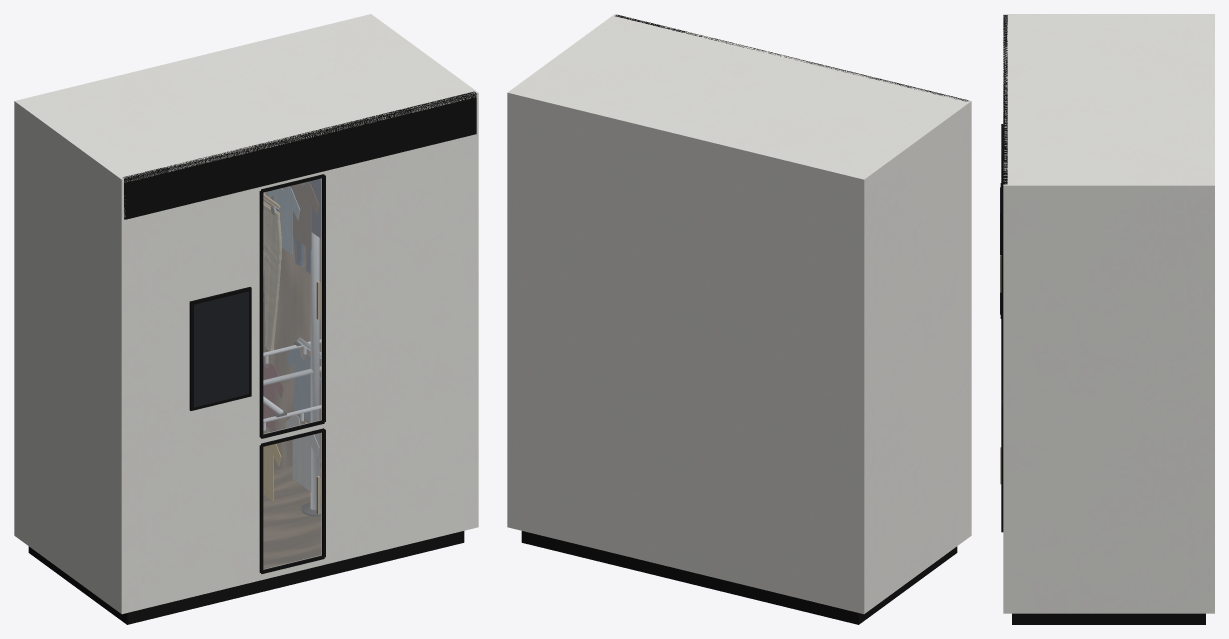
The model's file is wardrobe.glb.
The picture shows the model from 3 angles, left to right: view 1: azimuth 30°, elevation 25°; view 2: azimuth 150°, elevation 25°; view 3: azimuth 270°, elevation 25°; orthographic projection.
Parts seen in each view (by area): view 1: front_right, side_left, front_left, roof, power_bar, glass_upper, glass_lower, back, screen_display, plinth, floor, kolumna_+0.35 (+12 smaller); view 2: back, side_left, roof, plinth, side_right, power_bar; view 3: side_right, roof, plinth, back, power_bar, trim_upper_r, trim_lower_r.
Boxes of the visible parts, box(x1,y1,x2,y2) form: front_right: box(321, 134, 476, 564); side_left: box(14, 100, 125, 614); front_left: box(124, 187, 260, 613); roof: box(17, 16, 476, 182); power_bar: box(123, 91, 476, 219); glass_upper: box(263, 178, 321, 434); glass_lower: box(263, 432, 321, 569); back: box(17, 14, 370, 470); screen_display: box(194, 291, 248, 407); plinth: box(28, 531, 464, 624); floor: box(263, 459, 321, 568); kolumna_+0.35: box(310, 232, 319, 509); back: box(509, 91, 863, 613); side_left: box(860, 100, 971, 614); roof: box(509, 15, 968, 182); plinth: box(521, 531, 957, 624); side_right: box(507, 14, 617, 527); power_bar: box(615, 14, 968, 101); side_right: box(1003, 184, 1214, 613); roof: box(1003, 15, 1214, 184); plinth: box(1012, 613, 1205, 624); back: box(1210, 15, 1214, 184); power_bar: box(1003, 15, 1007, 184); trim_upper_r: box(1001, 155, 1003, 398); trim_lower_r: box(1001, 406, 1003, 531).
Bounding box in the file's own units: 1.82 × 2.2 × 0.964.
Materials: 132 (118 with a texture image).
